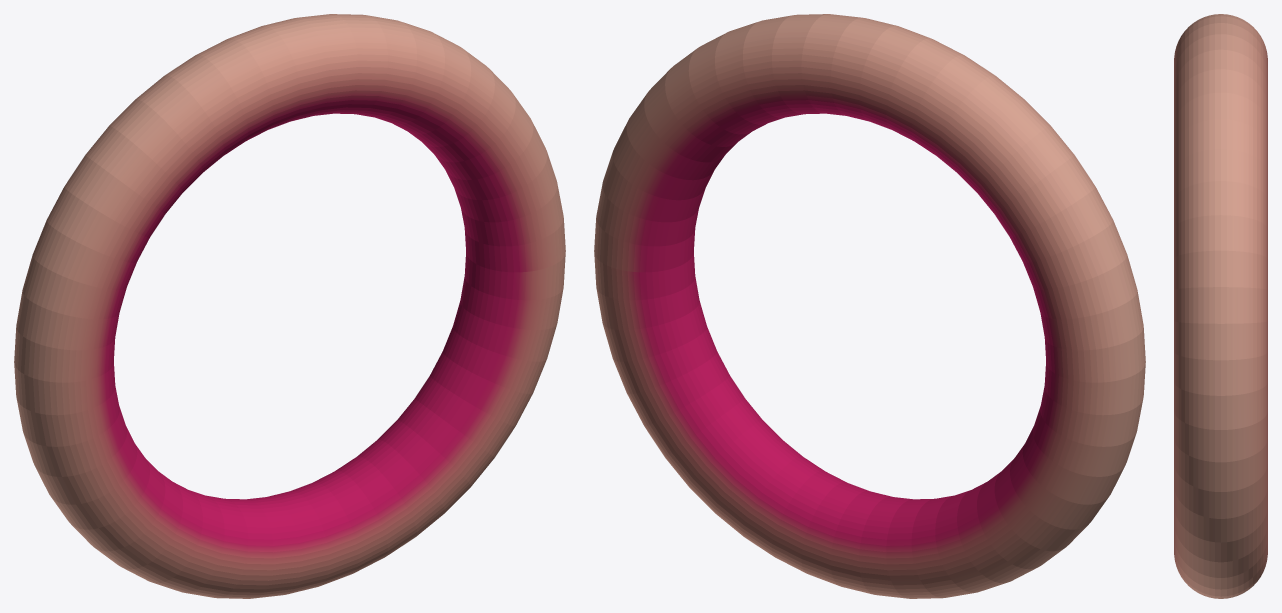
The picture shows the model from 3 angles, left to right: view 1: azimuth 30°, elevation 25°; view 2: azimuth 150°, elevation 25°; view 3: azimuth 270°, elevation 25°; orthographic projection. The views are drawn at different scales.
Visible parts, largest first — view 1: world; view 2: world; view 3: world.
Part boxes in pixels (x1=…): world: x1=14, y1=14, x2=565, y2=598; world: x1=594, y1=14, x2=1145, y2=598; world: x1=1174, y1=14, x2=1267, y2=598.
Size of the model in its own units: 35.73 by 35.66 by 5.72.
